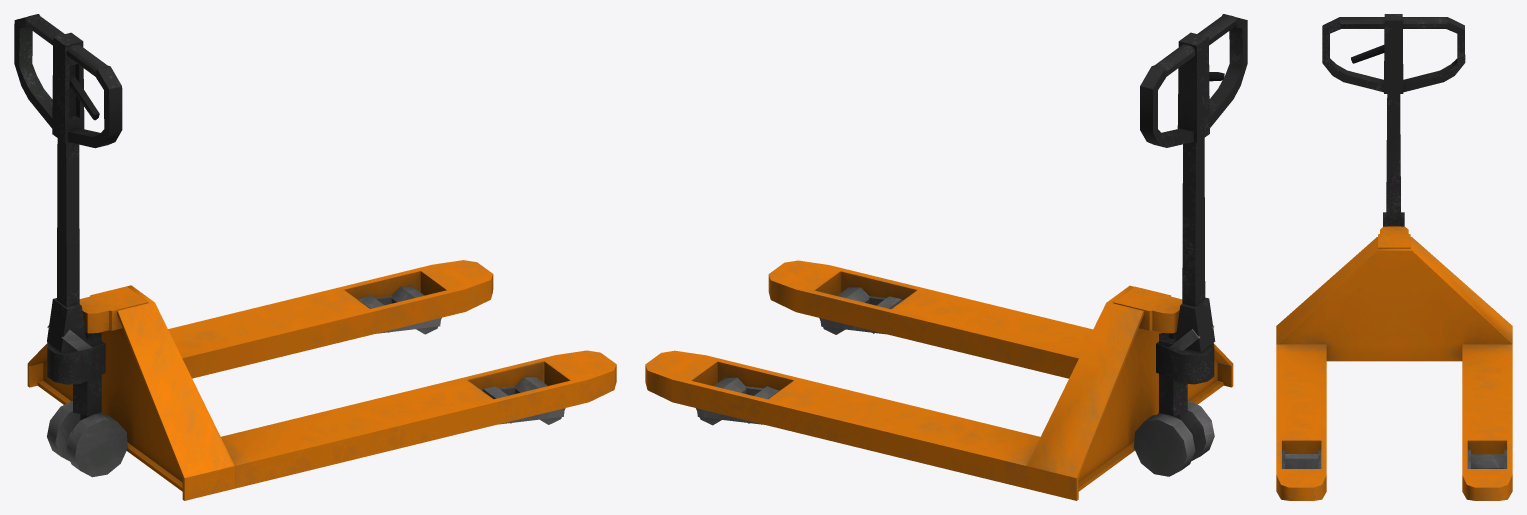
Rendered from PalletTruck.FBX.
The picture shows the model from 3 angles, left to right: view 1: azimuth 30°, elevation 25°; view 2: azimuth 150°, elevation 25°; view 3: azimuth 270°, elevation 25°; orthographic projection. The views are drawn at different scales.
Visible parts, largest first — view 1: Box001; view 2: Box001; view 3: Box001.
Part boxes in pixels (x1=…): Box001: x1=14, y1=14, x2=616, y2=500; Box001: x1=645, y1=14, x2=1247, y2=500; Box001: x1=1276, y1=14, x2=1512, y2=500.
Bounding box in the file's own units: 253 × 210 × 139.
